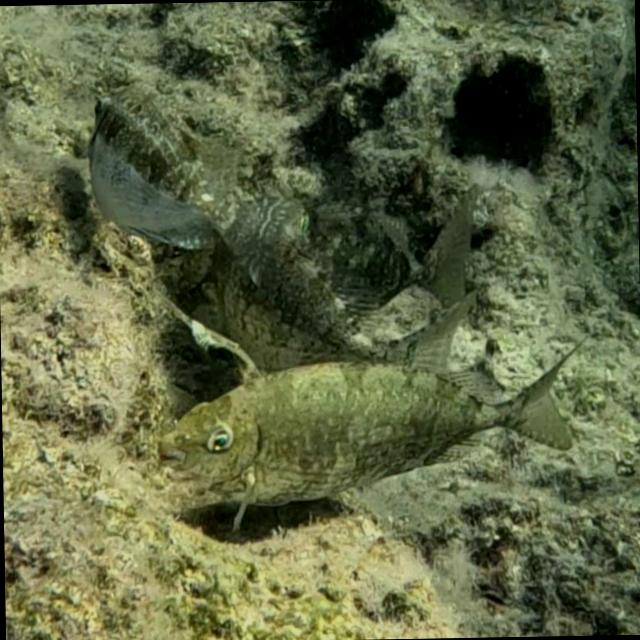Sokar Baligi: (152, 338, 599, 518)
